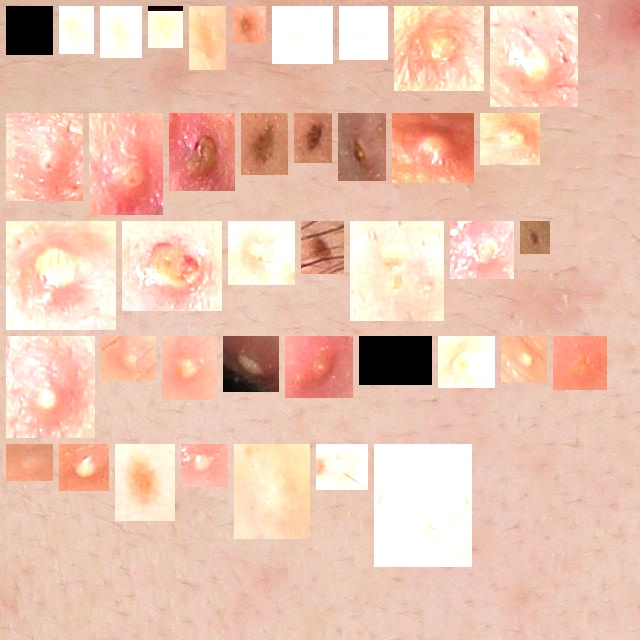hypertrophic_scar: (382, 452, 464, 559), (242, 452, 302, 531), (14, 452, 45, 473)
melasma: (123, 452, 167, 513), (280, 14, 325, 56), (347, 14, 380, 52), (14, 14, 45, 47), (197, 14, 218, 62), (108, 14, 134, 50), (67, 14, 86, 46), (156, 14, 175, 40)
nevus: (367, 344, 424, 377), (249, 121, 280, 167), (309, 229, 336, 266), (302, 121, 324, 155), (240, 14, 258, 36), (528, 229, 542, 246)
pustule: (14, 229, 108, 322), (358, 229, 436, 313), (14, 344, 87, 430), (130, 229, 214, 303), (498, 14, 570, 99), (402, 14, 476, 83), (97, 121, 155, 207), (14, 121, 75, 193), (400, 121, 466, 175), (177, 121, 227, 183), (236, 229, 287, 277), (293, 344, 345, 390), (458, 229, 506, 271), (170, 344, 209, 392), (346, 121, 378, 173), (231, 344, 271, 384), (488, 121, 532, 157), (446, 344, 487, 380), (561, 344, 599, 382), (109, 344, 148, 373), (324, 452, 360, 482), (67, 452, 101, 483), (509, 344, 539, 374), (189, 452, 220, 479)
